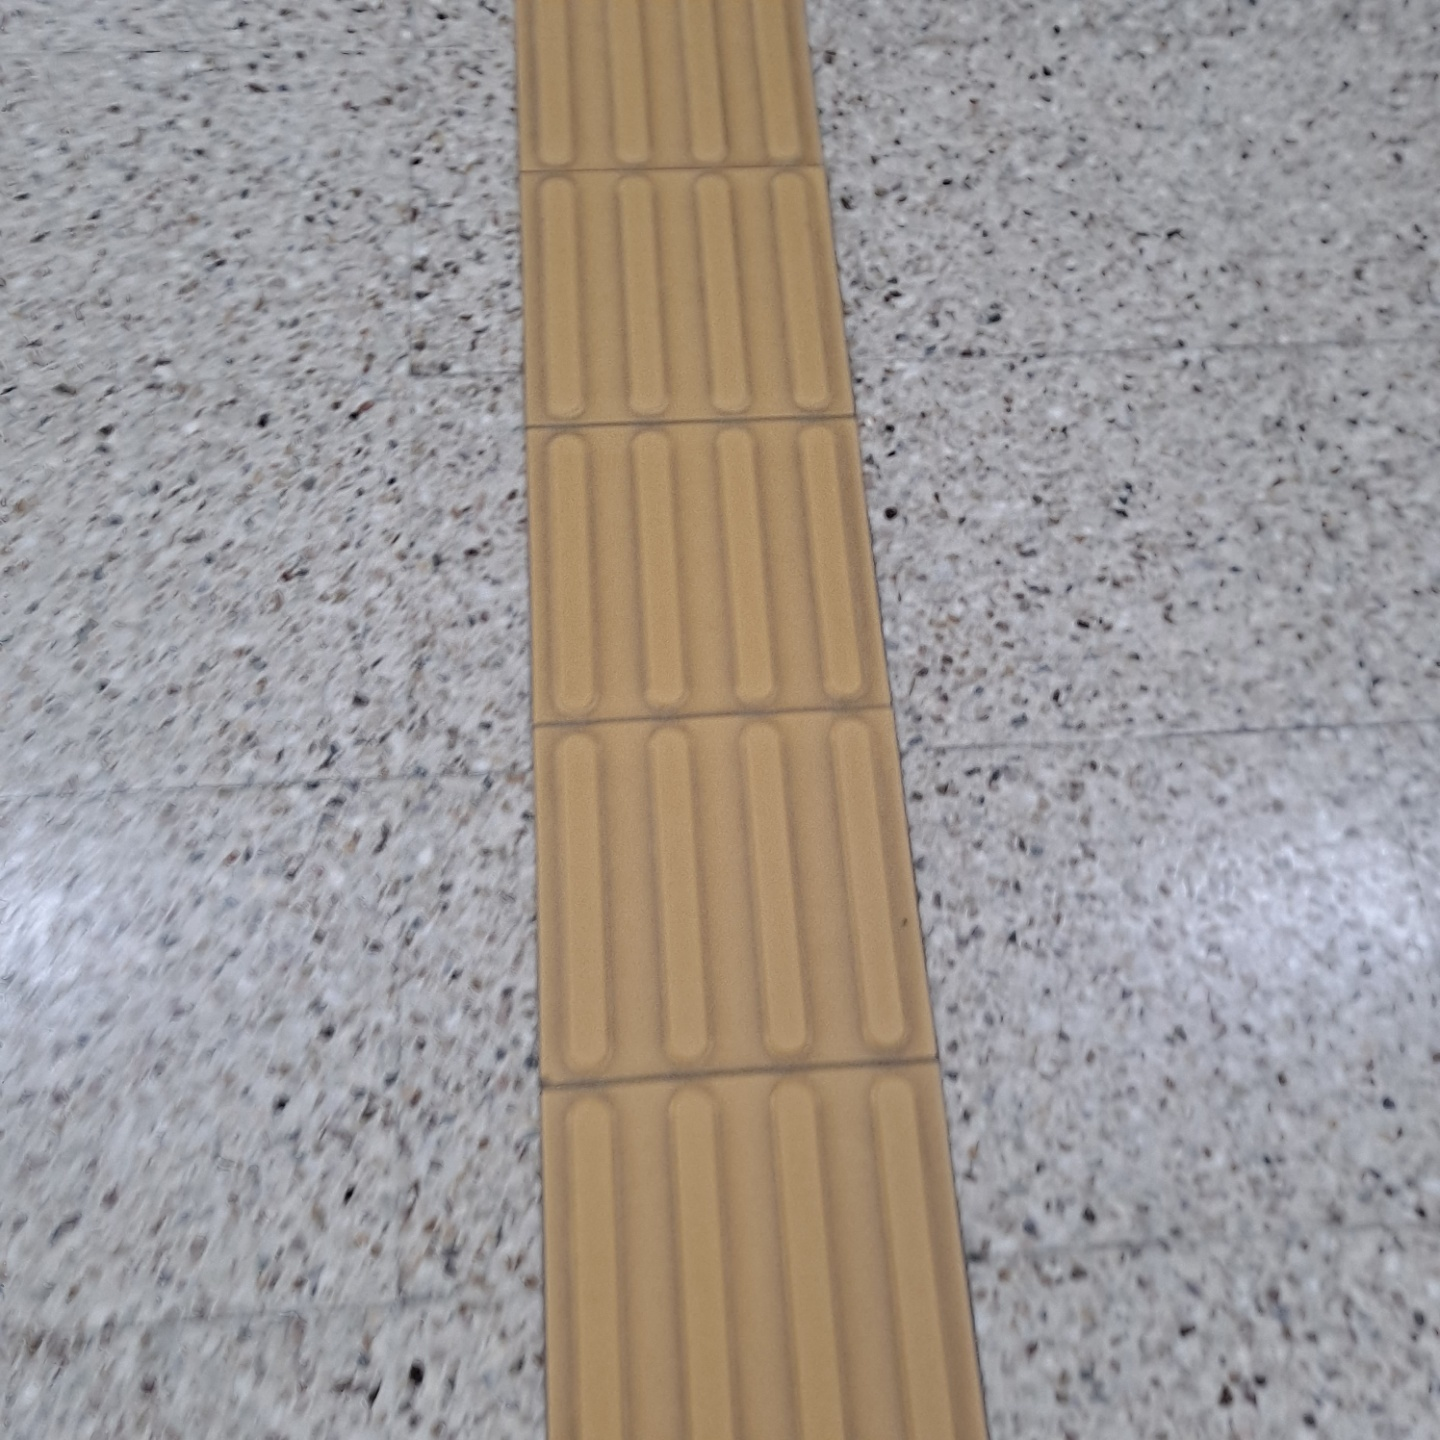guideBlock: (541, 1077, 1027, 1440), (531, 733, 989, 1104), (529, 419, 884, 721), (506, 187, 869, 413), (517, 7, 844, 189)
